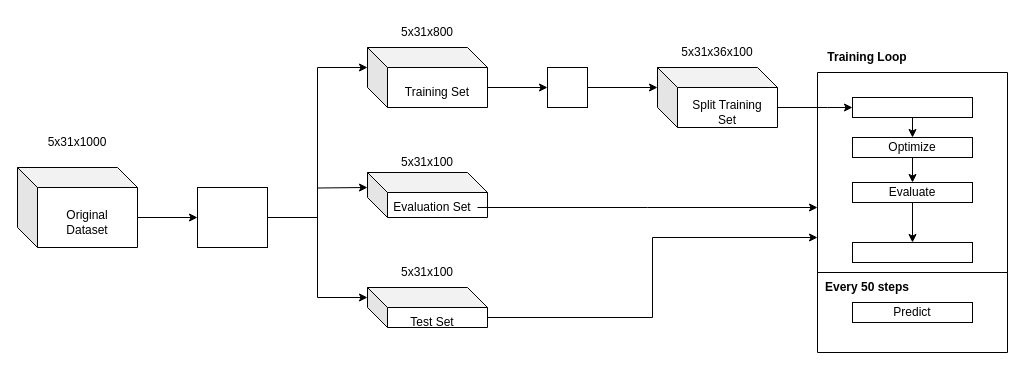
Image size: 1025x370. Some labels were removed from this diagram. The box of each missing label's shape, as (x1, y1, x2, y2) in pixels:
Backwards Loss: (852, 242, 972, 262)
Splitter: (546, 66, 588, 108)
TCN Forward Pass: (852, 96, 972, 118)
Wavelet Function: (196, 186, 268, 248)
